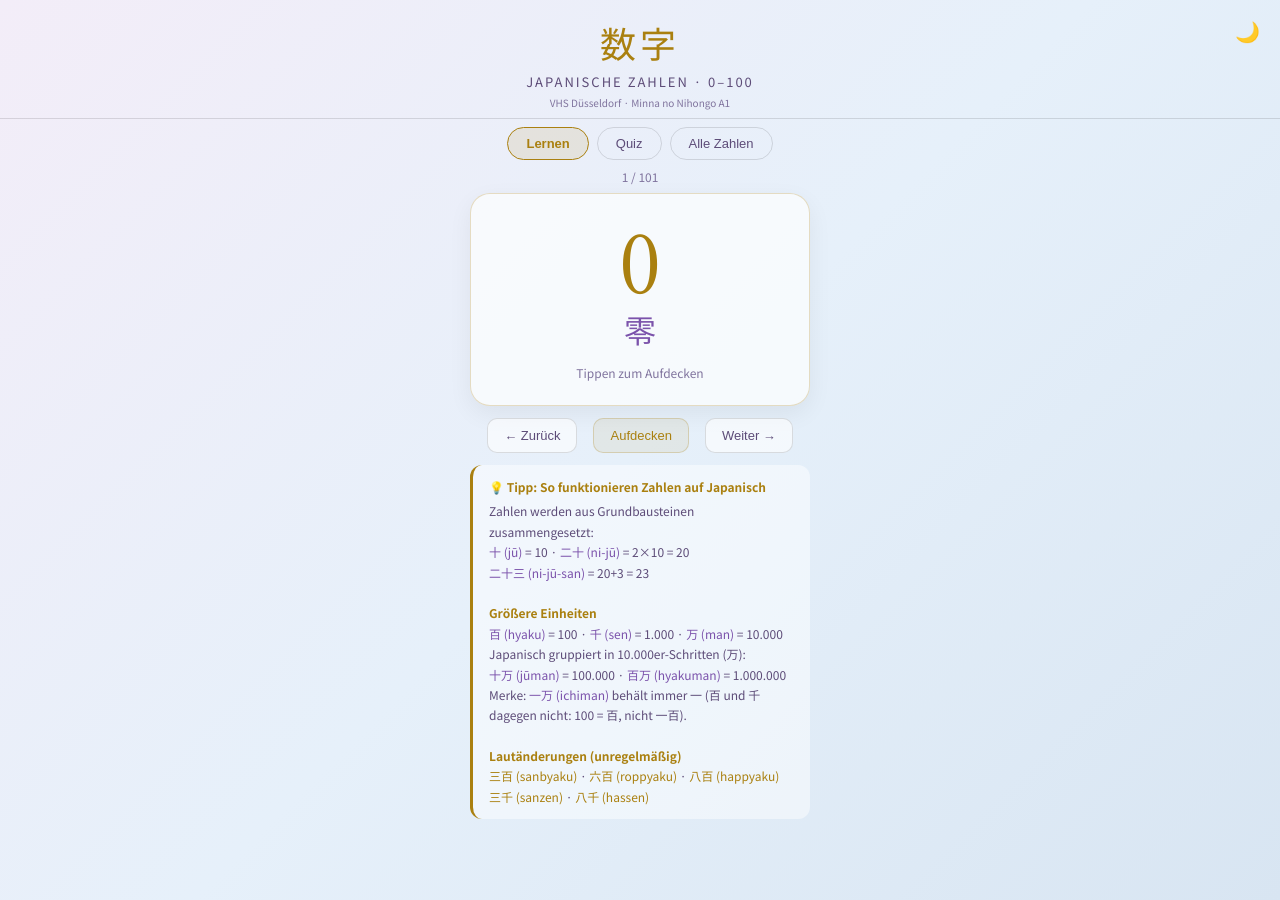
Test case: Flashcard navigation › wraps from the first card back to the last
Note: Default tab is Lernen, card 1 / 101.
Click the button "← Zurück" at (532, 436), box [487,418,577,453]
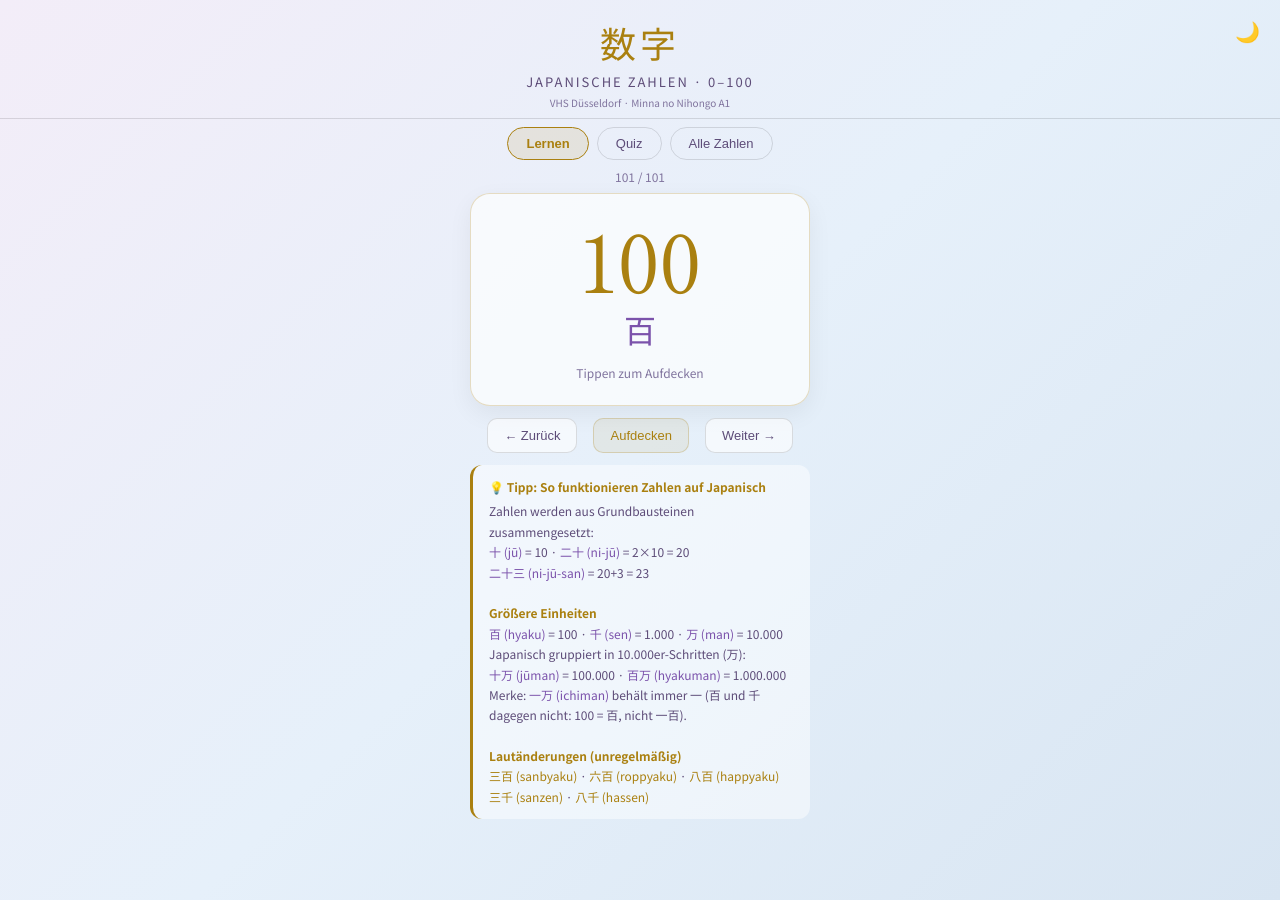
Result: the text "101 / 101" is shown at [615,168,665,185]
